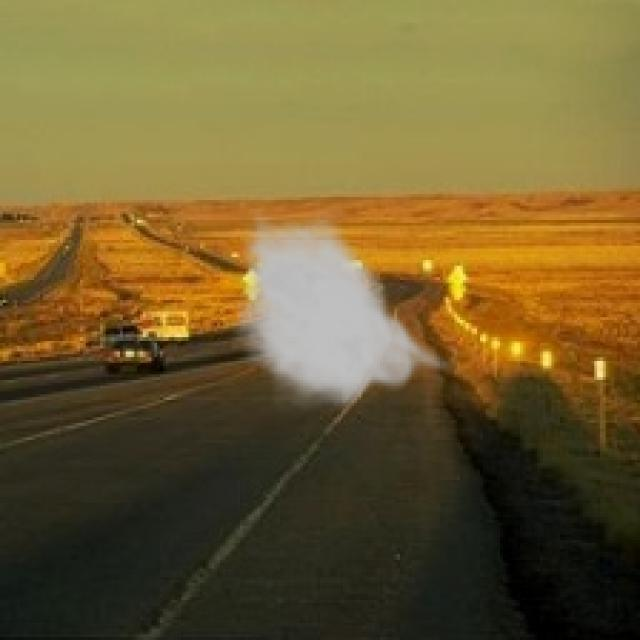Smoke: (232, 206, 459, 414)
